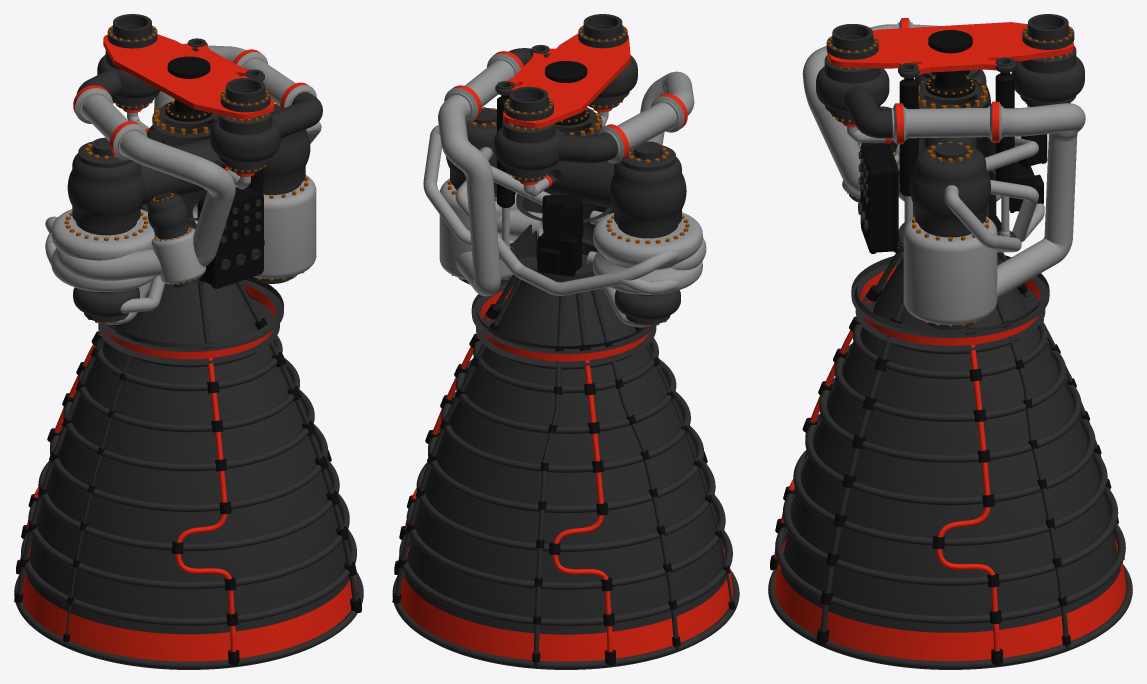
File: rs-25_engine.glb
3 renders of one model, left to right at view 1: azimuth 30°, elevation 25°; view 2: azimuth 150°, elevation 25°; view 3: azimuth 270°, elevation 25°, orthographic. The views are drawn at different scales.
Parts seen in each view (by area): view 1: Object_27, Object_16, Object_21, Object_26, Object_23, Object_18, Object_6, Object_25, Object_24, Object_17, Object_20, Object_22 (+8 smaller); view 2: Object_27, Object_16, Object_17, Object_21, Object_26, Object_23, Object_24, Object_6, Object_25, Object_20, Object_22, Object_18 (+9 smaller); view 3: Object_27, Object_16, Object_17, Object_23, Object_21, Object_25, Object_6, Object_18, Object_20, Object_24, Object_15, Object_3 (+9 smaller).
Boxes of the visible parts, x1,y1,x2,y2 form: Object_27: [14, 102, 363, 669]; Object_16: [20, 34, 357, 661]; Object_21: [51, 52, 316, 292]; Object_26: [67, 137, 199, 322]; Object_23: [97, 14, 357, 600]; Object_18: [57, 131, 235, 280]; Object_6: [140, 186, 263, 288]; Object_25: [187, 38, 310, 283]; Object_24: [15, 202, 264, 643]; Object_17: [45, 45, 321, 324]; Object_20: [82, 58, 295, 141]; Object_22: [76, 70, 322, 138]; Object_27: [392, 112, 739, 669]; Object_16: [400, 33, 733, 661]; Object_17: [423, 94, 678, 327]; Object_21: [439, 53, 702, 294]; Object_26: [610, 141, 686, 324]; Object_23: [494, 14, 637, 182]; Object_24: [394, 209, 733, 649]; Object_6: [537, 194, 613, 276]; Object_25: [446, 45, 561, 665]; Object_20: [465, 60, 676, 249]; Object_22: [508, 48, 617, 163]; Object_18: [640, 71, 706, 270]; Object_27: [768, 79, 1132, 669]; Object_16: [774, 18, 1126, 661]; Object_17: [944, 103, 1085, 297]; Object_23: [816, 14, 1084, 631]; Object_21: [842, 18, 1003, 324]; Object_25: [898, 57, 1110, 489]; Object_6: [860, 134, 1047, 253]; Object_18: [802, 24, 899, 192]; Object_20: [906, 24, 1010, 236]; Object_24: [875, 204, 1069, 648]; Object_15: [774, 298, 999, 651]; Object_3: [925, 30, 975, 97].
Bounding box in the file's own units: 2.47 × 4.25 × 2.47.
